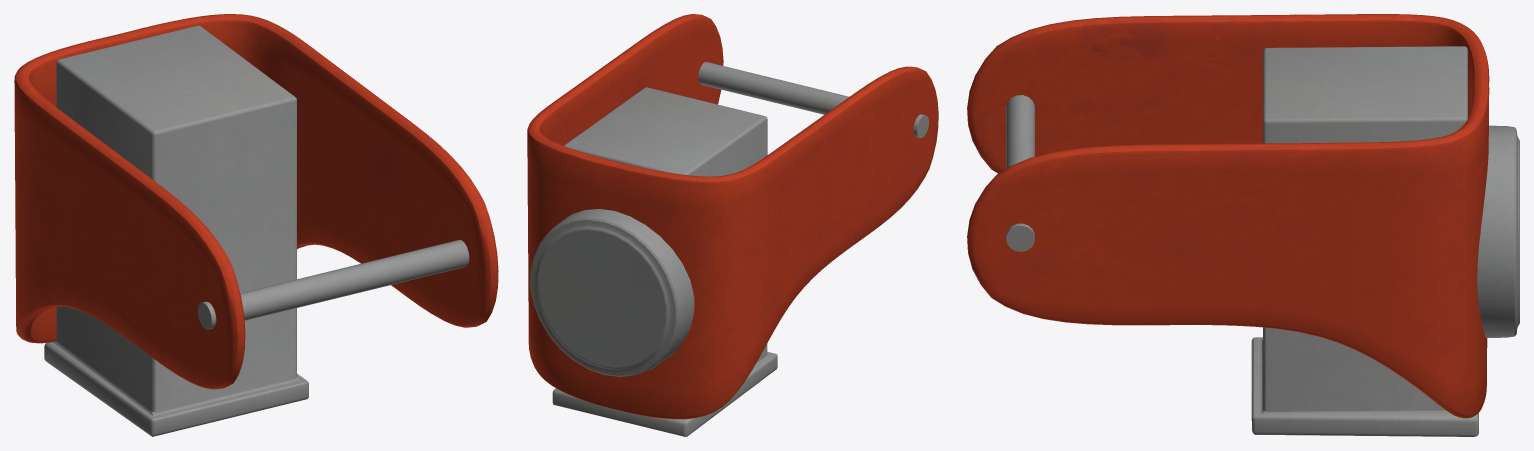
File: arm3.gltf
3 views of the same model, side by side, from view 1: azimuth 30°, elevation 25°; view 2: azimuth 150°, elevation 25°; view 3: azimuth 270°, elevation 25° (orthographic). The views are drawn at different scales.
Visible parts, largest first — view 1: Cylinder.015; view 2: Cylinder.015; view 3: Cylinder.015.
Part boxes in pixels (x1,y1,x2,y2): Cylinder.015: [14, 14, 498, 436]; Cylinder.015: [527, 14, 938, 436]; Cylinder.015: [967, 14, 1519, 436].
Size of the model in its own units: 0.6044 by 0.6442 by 1.01.
3 materials, 3 textured.
